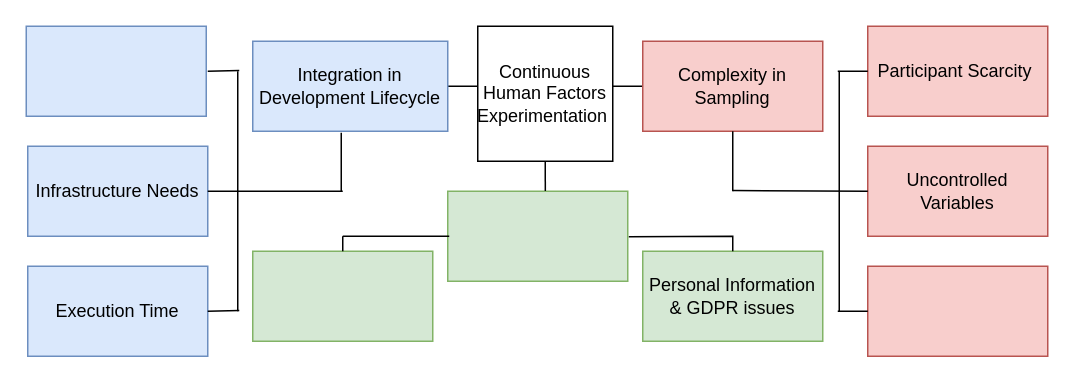
The diagram is 1074 pixels wide and 383 high, and some of its shapes have lost their labels. Each missing label, with the centre of its shape:
Expensive: [342,295]
Nature of Experiments: [537,235]
Statistical Analysis: [957,310]
Too Few Human Factors Experts: [115,70]
